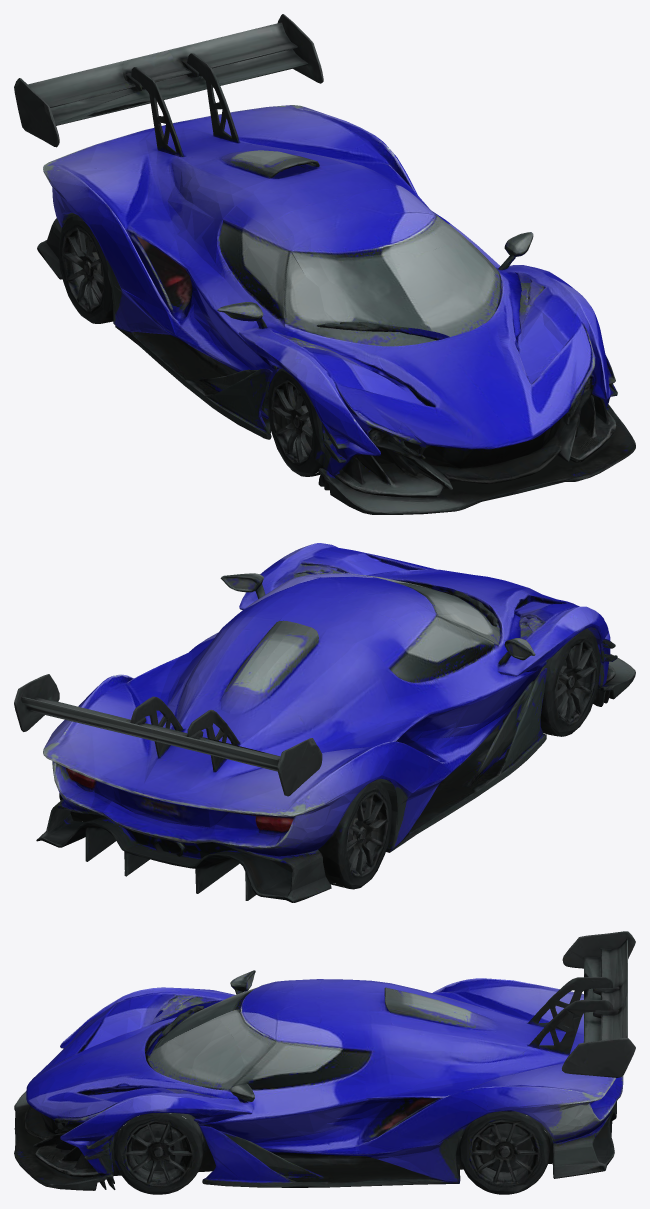
File: nordvind.glb
3 renders of one model, top to bottom at view 1: azimuth 30°, elevation 25°; view 2: azimuth 150°, elevation 25°; view 3: azimuth 270°, elevation 25°, orthographic. The views are drawn at different scales.
Parts seen in each view (by area): view 1: koerper, rad_vr, rad_hr; view 2: koerper, rad_hr, rad_vr; view 3: koerper, rad_hl, rad_vl.
Part boxes in pixels (<box>): koerper: <box>14,14,635,514</box>; rad_vr: <box>268,368,328,476</box>; rad_hr: <box>59,214,113,323</box>; koerper: <box>14,543,635,902</box>; rad_hr: <box>318,780,392,889</box>; rad_vr: <box>534,629,600,736</box>; koerper: <box>14,931,635,1190</box>; rad_hl: <box>458,1111,551,1194</box>; rad_vl: <box>113,1113,205,1194</box>.
Bounding box in the file's own units: 2.22 × 1.27 × 4.6.
1 material, 1 textured.
